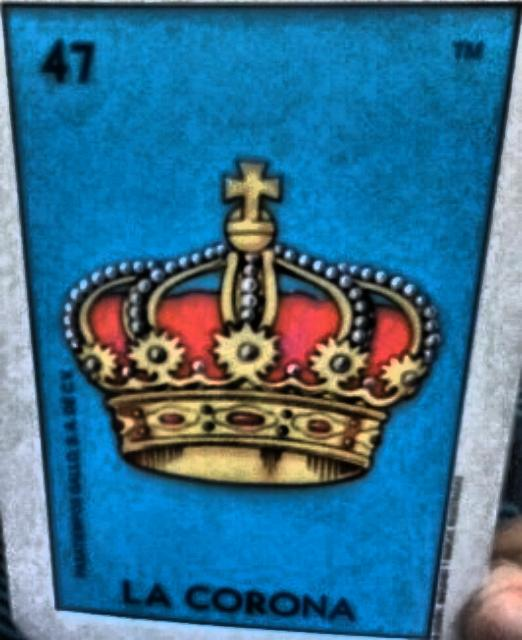La Corona: (4, 4, 520, 637)
